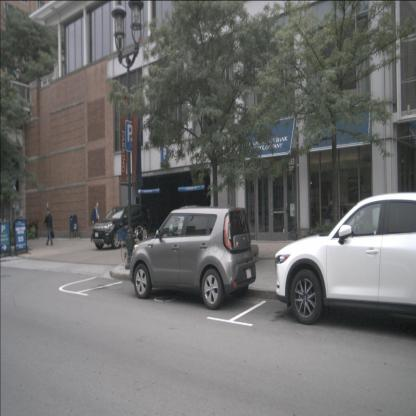human-pedestrian-adult: (44, 208, 54, 246), (91, 203, 100, 243)
vehicle-bicycle: (121, 224, 144, 266)
vehicle-car: (274, 191, 416, 326), (129, 206, 256, 311), (92, 204, 150, 250)
